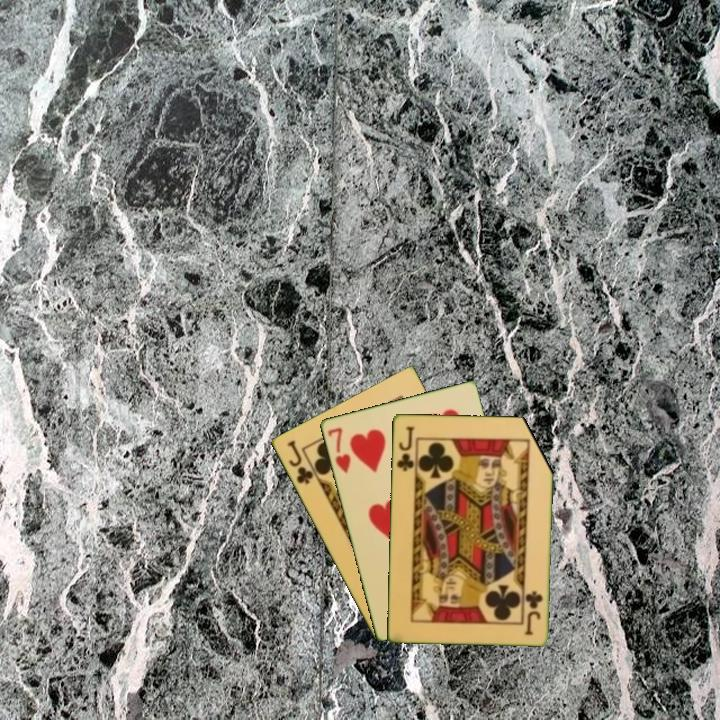7h: (324, 423, 353, 476)
Jc: (283, 437, 316, 487), (393, 423, 417, 474), (522, 587, 545, 637)
